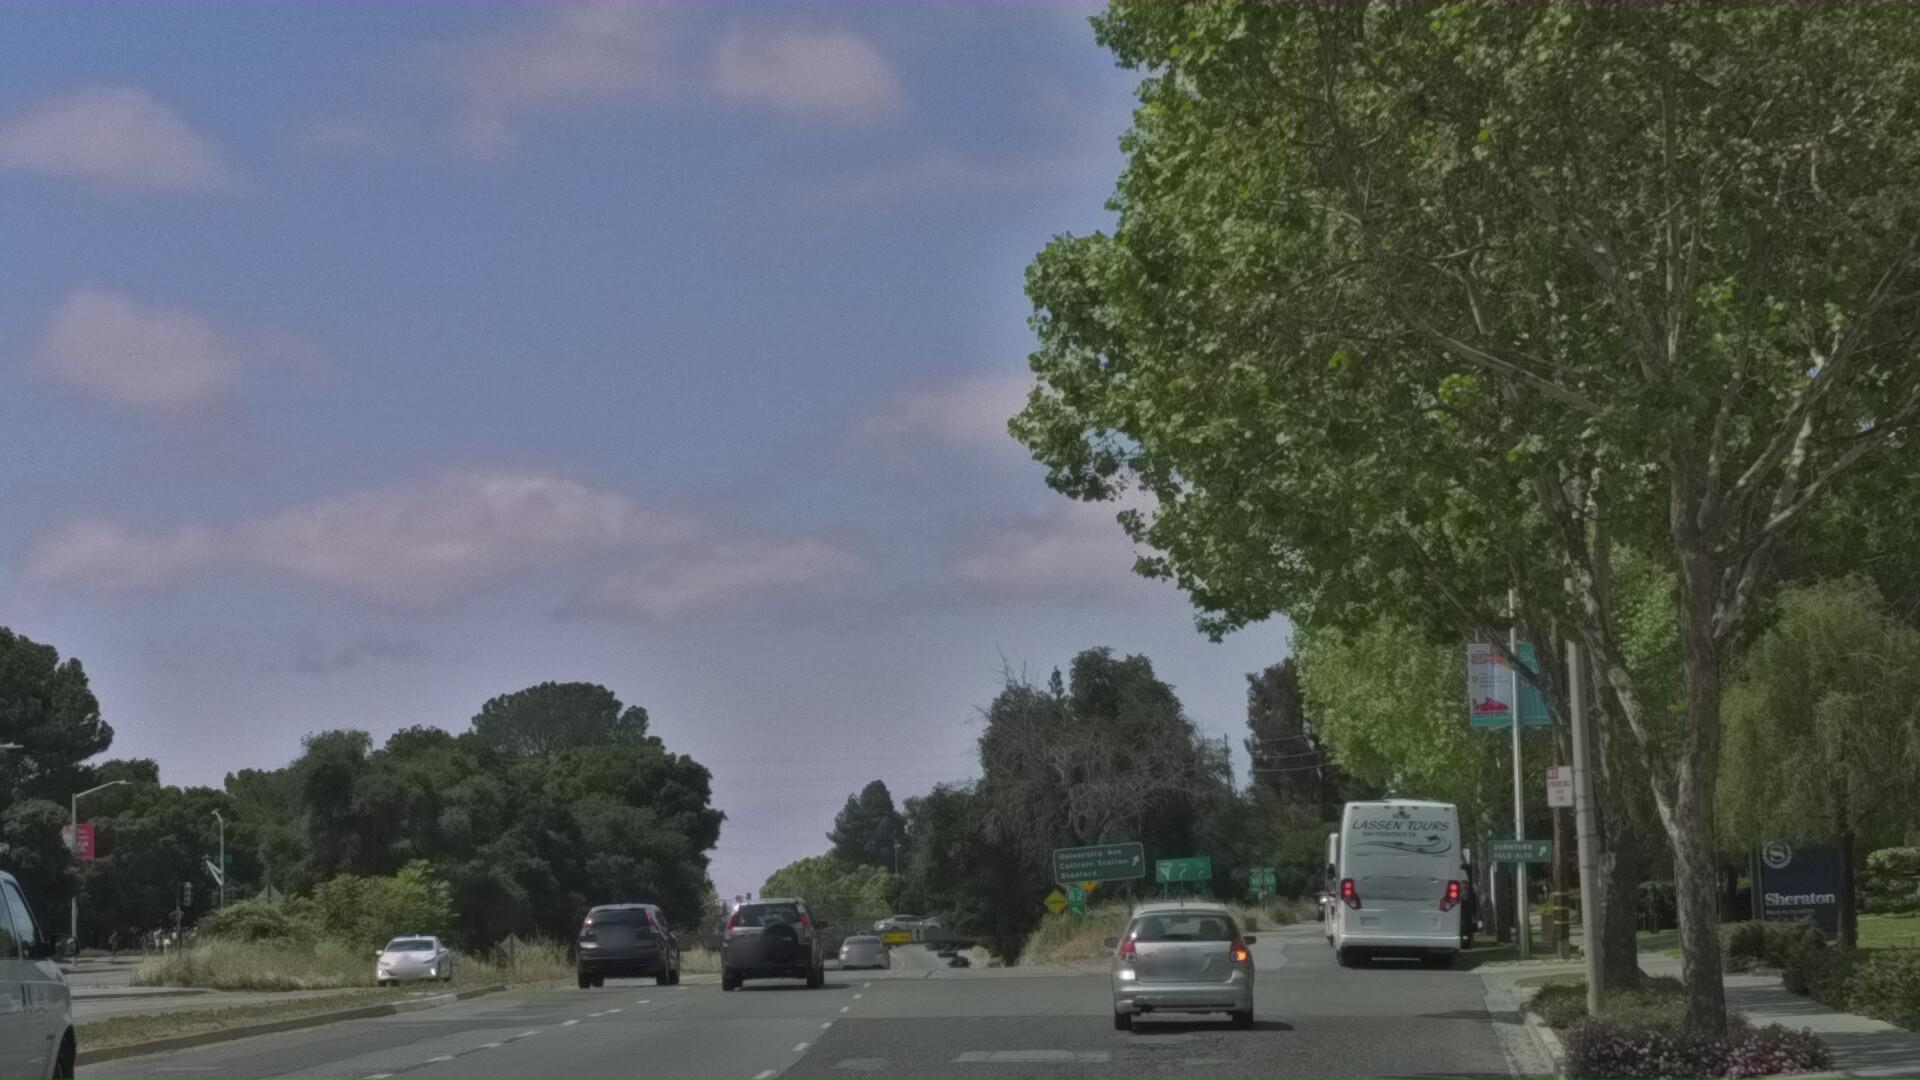bus: (1294, 893, 1470, 1079)
car: (0, 887, 103, 1080), (1098, 982, 1273, 1080), (717, 996, 829, 1080), (574, 1010, 688, 1080)
